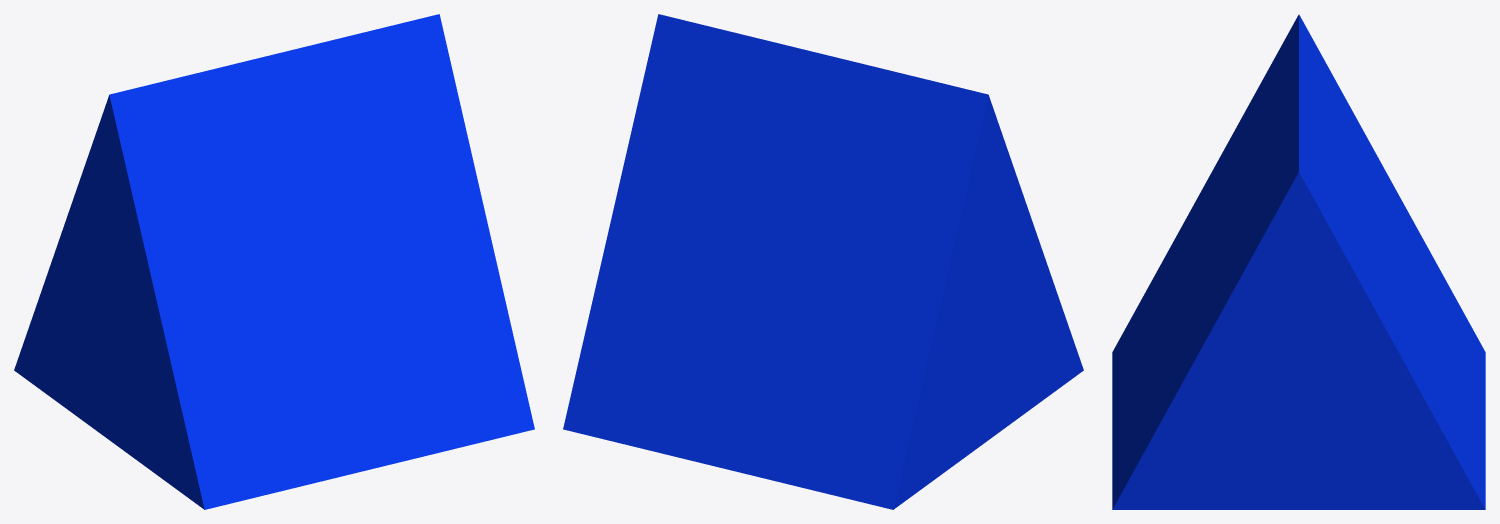
The model's file is Maker.glb.
The picture shows the model from 3 angles, left to right: view 1: azimuth 30°, elevation 25°; view 2: azimuth 150°, elevation 25°; view 3: azimuth 270°, elevation 25°; orthographic projection. The views are drawn at different scales.
Parts seen in each view (by area): view 1: point; view 2: point; view 3: point.
Part boxes in pixels (box(x1,y1,x2,y2)): point: box(14, 14, 534, 509); point: box(563, 14, 1083, 509); point: box(1112, 14, 1485, 509).
Size of the model in its own units: 1 by 1 by 1.
